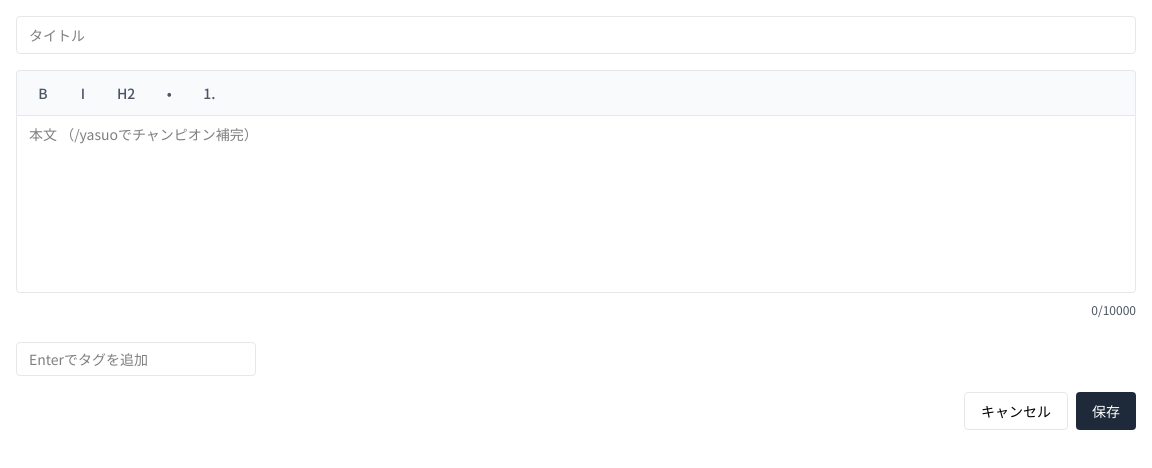
GeneralNoteForm › タイトルが空の場合、保存ボタンクリックでエラーメッセージが表示される
Click the button "保存" at [1106, 411], box [1076,392,1136,430]
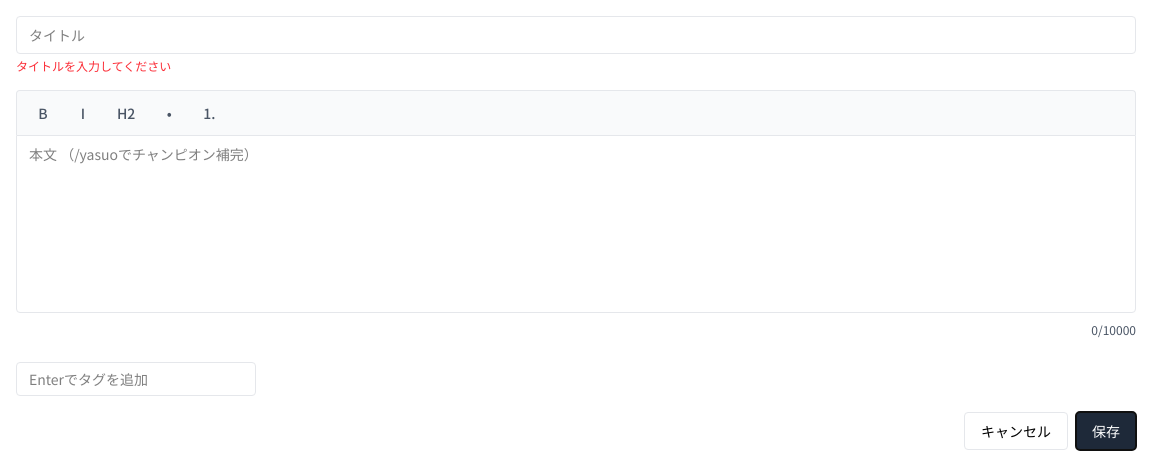
Check: the text "タイトルを入力してください" is shown, box [16,57,171,74]
